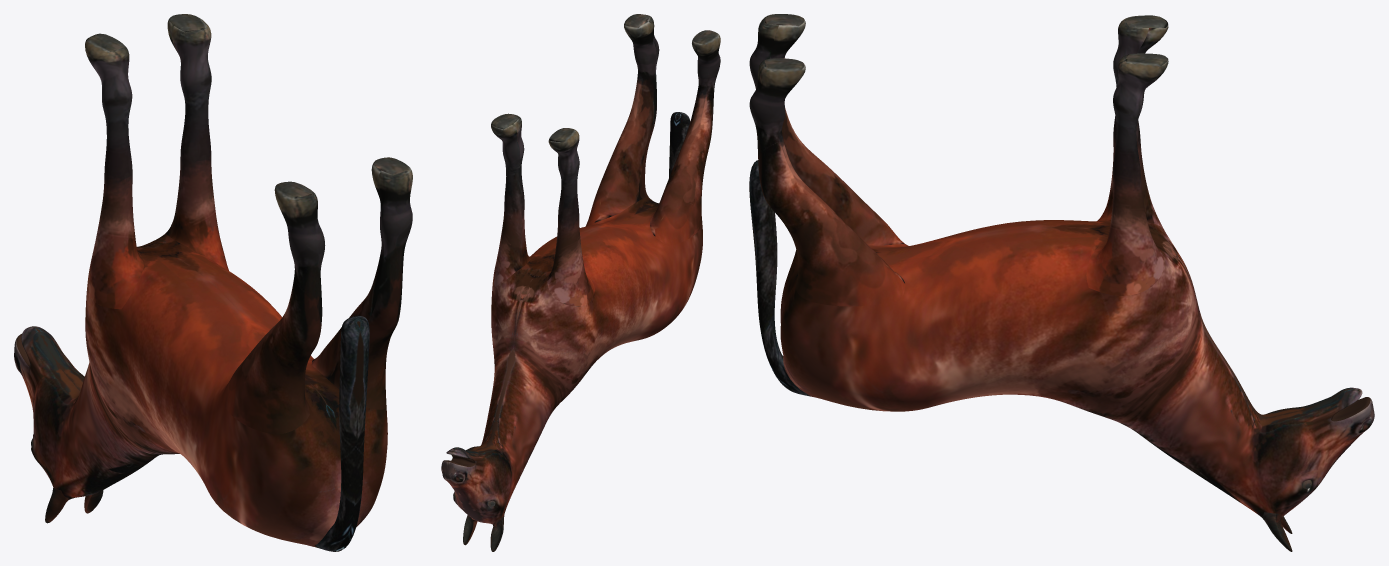
The model's file is horse.gltf.
3 renders of one model, left to right at view 1: azimuth 30°, elevation 25°; view 2: azimuth 150°, elevation 25°; view 3: azimuth 270°, elevation 25°, orthographic. The views are drawn at different scales.
Parts seen in each view (by area): view 1: 10026_Horse_v01-it2; view 2: 10026_Horse_v01-it2; view 3: 10026_Horse_v01-it2.
Boxes of the visible parts, x1,y1,x2,y2 form: 10026_Horse_v01-it2: (14, 14, 412, 551); 10026_Horse_v01-it2: (441, 14, 720, 551); 10026_Horse_v01-it2: (749, 14, 1374, 551).
Size of the model in its own units: 23.06 by 86.34 by 97.04.
Materials: 1 (1 with a texture image).
